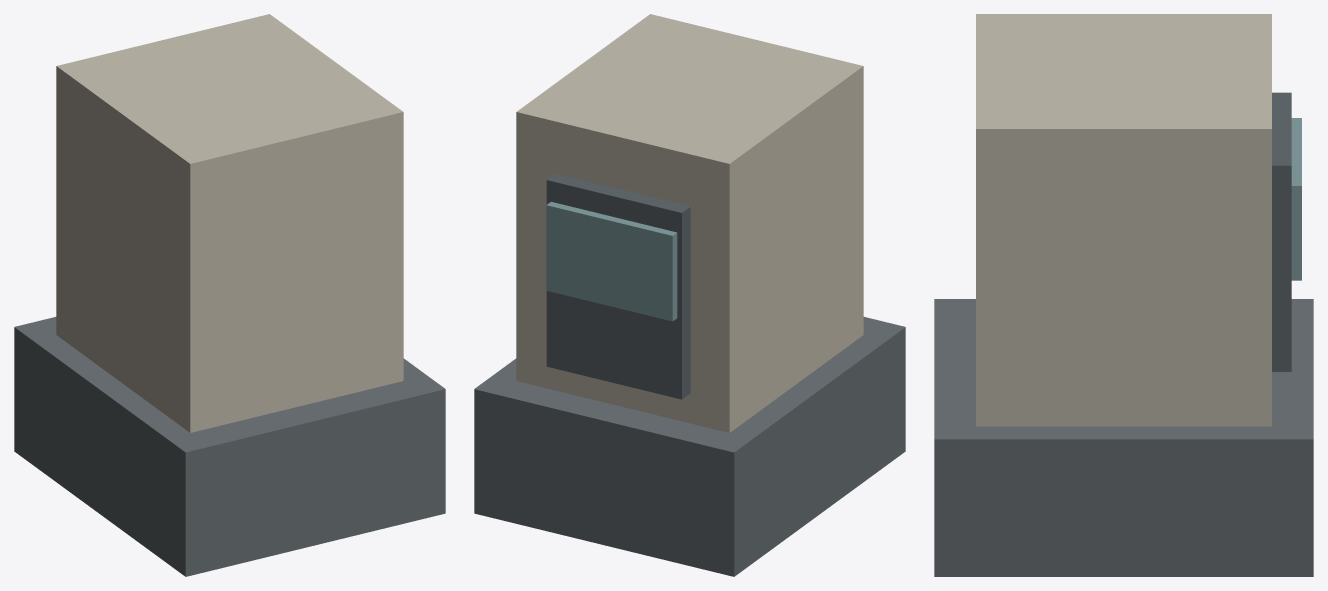
Rendered from iz3_health_wheelchair_01.glb.
3 renders of one model, left to right at view 1: azimuth 30°, elevation 25°; view 2: azimuth 150°, elevation 25°; view 3: azimuth 270°, elevation 25°, orthographic. The views are drawn at different scales.
Parts seen in each view (by area): view 1: cabinet, base; view 2: cabinet, base, panel, display; view 3: cabinet, base, panel, display.
Part boxes in pixels (<box>): cabinet: <box>56,14,403,432</box>; base: <box>14,317,445,576</box>; cabinet: <box>516,14,863,432</box>; base: <box>474,317,905,576</box>; panel: <box>546,173,690,399</box>; display: <box>546,201,677,321</box>; cabinet: <box>976,14,1271,426</box>; base: <box>934,299,1313,576</box>; panel: <box>1272,92,1291,371</box>; display: <box>1291,118,1301,280</box>.
Size of the model in its own units: 0.7 by 1.01 by 0.8.
